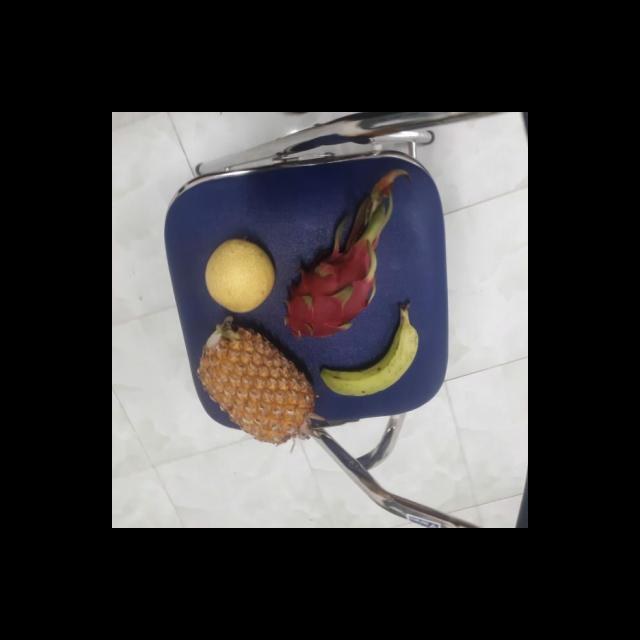banana: (316, 308, 418, 398)
pear: (202, 238, 276, 310)
pineapple: (196, 321, 316, 441)
pitaya: (277, 240, 379, 339)
